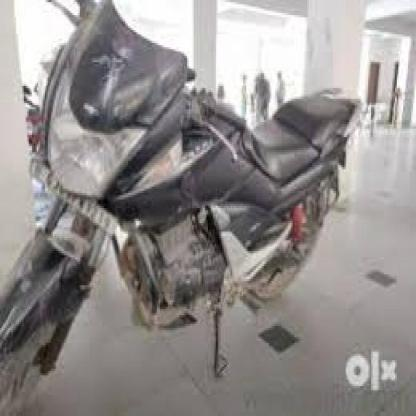bike: (0, 0, 363, 416)
